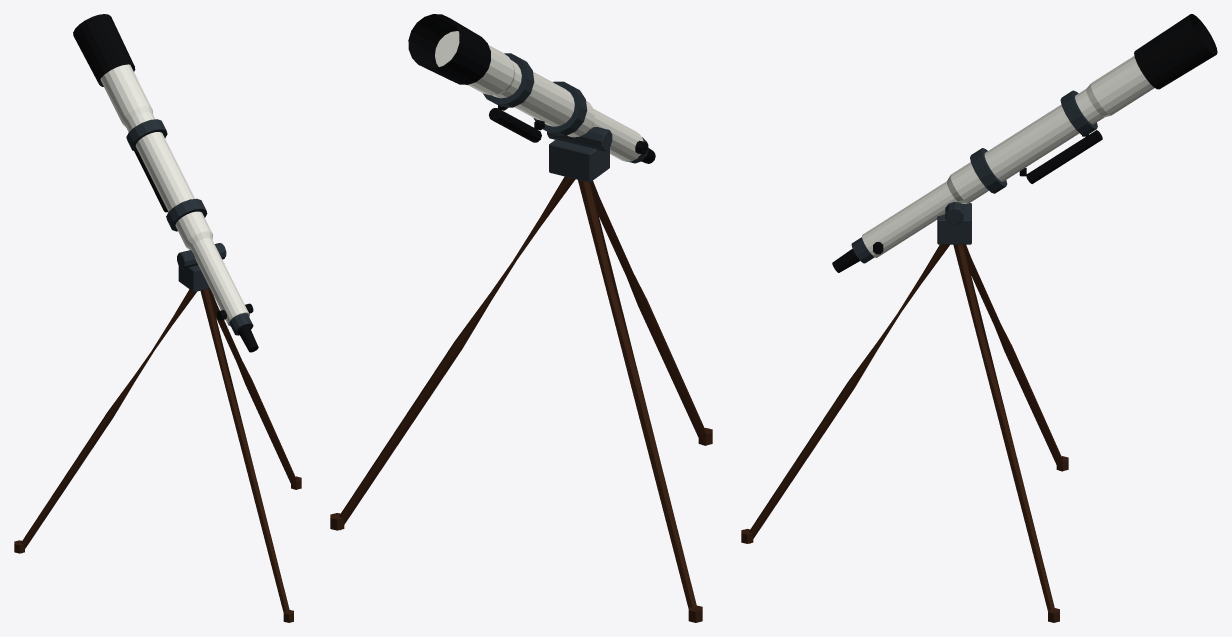
The model's file is ACCESSORY_10_Telescope.obj.
The picture shows the model from 3 angles, left to right: view 1: azimuth 30°, elevation 25°; view 2: azimuth 150°, elevation 25°; view 3: azimuth 270°, elevation 25°; orthographic projection. The views are drawn at different scales.
Parts seen in each view (by area): view 1: ACCESSORY_10_Telescope_Tube, ACCESSORY_10_Telescope_Tripod_Legs, ACCESSORY_10_Telescope_Dew_Shield, ACCESSORY_10_Telescope_Tube_Rings, ACCESSORY_10_Telescope_Mount_Head; view 2: ACCESSORY_10_Telescope_Tripod_Legs, ACCESSORY_10_Telescope_Tube, ACCESSORY_10_Telescope_Dew_Shield, ACCESSORY_10_Telescope_Mount_Head, ACCESSORY_10_Telescope_Tube_Rings, ACCESSORY_10_Telescope_Finder_Scope; view 3: ACCESSORY_10_Telescope_Tube, ACCESSORY_10_Telescope_Tripod_Legs, ACCESSORY_10_Telescope_Dew_Shield, ACCESSORY_10_Telescope_Tube_Rings, ACCESSORY_10_Telescope_Mount_Head, ACCESSORY_10_Telescope_Finder_Scope.
Part boxes in pixels (box(x1,y1,x2,y2)): ACCESSORY_10_Telescope_Tube: box(100, 64, 249, 326); ACCESSORY_10_Telescope_Tripod_Legs: box(14, 288, 301, 622); ACCESSORY_10_Telescope_Dew_Shield: box(73, 14, 135, 86); ACCESSORY_10_Telescope_Tube_Rings: box(126, 119, 207, 231); ACCESSORY_10_Telescope_Mount_Head: box(177, 243, 226, 292); ACCESSORY_10_Telescope_Tripod_Legs: box(330, 176, 712, 622); ACCESSORY_10_Telescope_Tube: box(435, 31, 643, 161); ACCESSORY_10_Telescope_Dew_Shield: box(408, 14, 490, 84); ACCESSORY_10_Telescope_Mount_Head: box(547, 127, 612, 182); ACCESSORY_10_Telescope_Tube_Rings: box(483, 53, 587, 135); ACCESSORY_10_Telescope_Finder_Scope: box(489, 105, 544, 142); ACCESSORY_10_Telescope_Tube: box(862, 56, 1154, 257); ACCESSORY_10_Telescope_Tripod_Legs: box(741, 244, 1068, 622); ACCESSORY_10_Telescope_Dew_Shield: box(1134, 14, 1217, 89); ACCESSORY_10_Telescope_Tube_Rings: box(970, 90, 1097, 193); ACCESSORY_10_Telescope_Mount_Head: box(937, 201, 971, 244); ACCESSORY_10_Telescope_Finder_Scope: box(1019, 130, 1102, 183).
Size of the model in its own units: 1.08 by 1.69 by 1.38.
